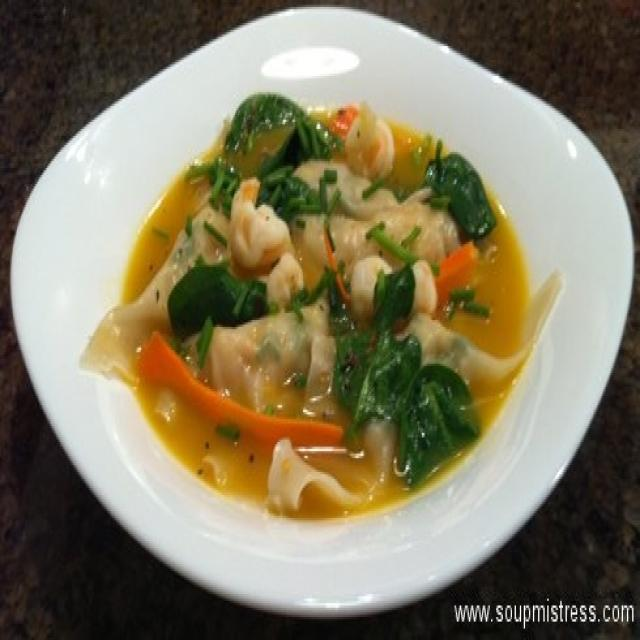汤锅炖物: (34, 21, 589, 573)
